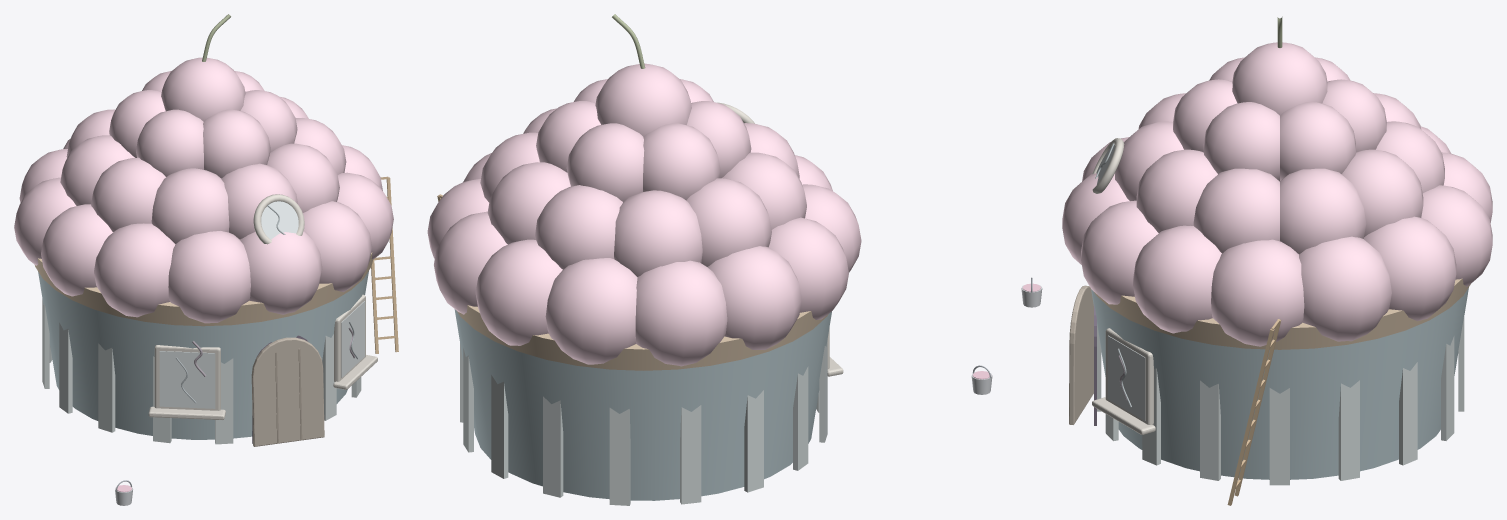
Rendered from building_sweets_L03.glb.
The picture shows the model from 3 angles, left to right: view 1: azimuth 30°, elevation 25°; view 2: azimuth 150°, elevation 25°; view 3: azimuth 270°, elevation 25°; orthographic projection. The views are drawn at different scales.
Parts seen in each view (by area): view 1: Body, sweets_L3; view 2: Body; view 3: Body, sweets_L3.
Boxes of the visible parts, left/top/right/bottom form: Body: left=14, top=14, right=393, bottom=446; sweets_L3: left=115, top=176, right=398, bottom=505; Body: left=427, top=14, right=861, bottom=505; Body: left=1062, top=16, right=1492, bottom=485; sweets_L3: left=1021, top=277, right=1281, bottom=505.
Size of the model in its own units: 17.18 by 15.5 by 16.15.
